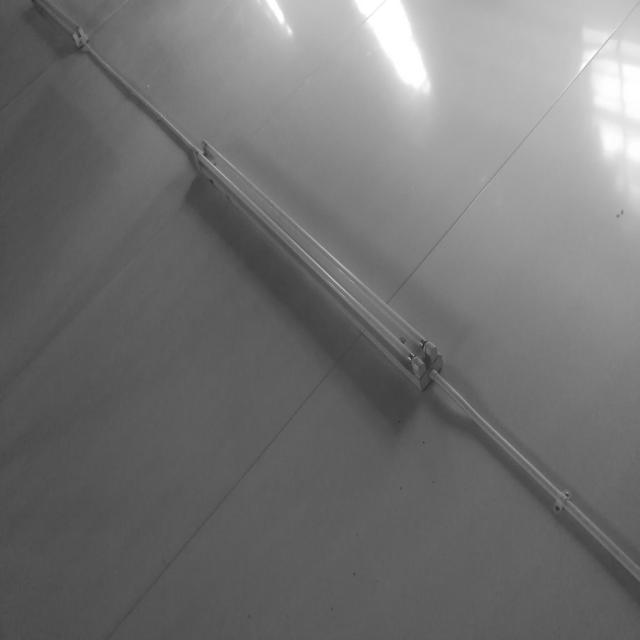light: (189, 137, 441, 389), (354, 0, 430, 95)
